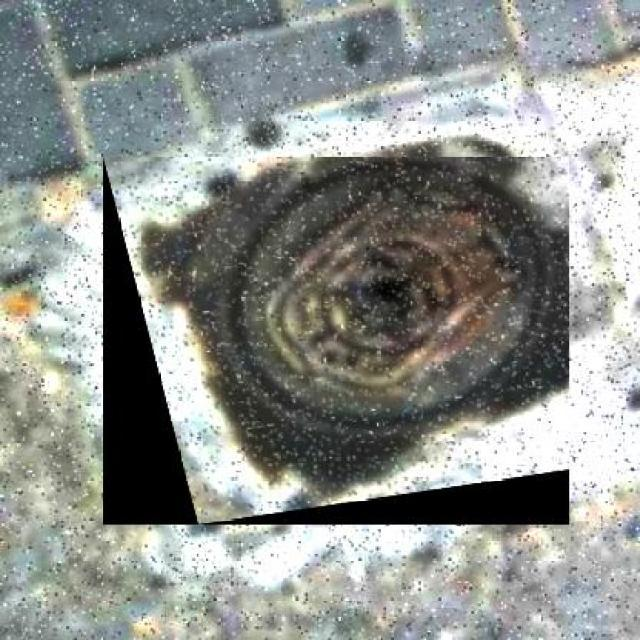Manhole: (103, 157, 569, 525)
